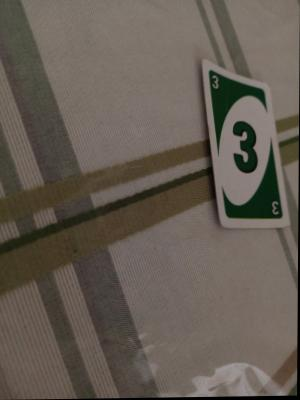num_3: (223, 115, 269, 183), (264, 201, 286, 222), (210, 74, 224, 99)
